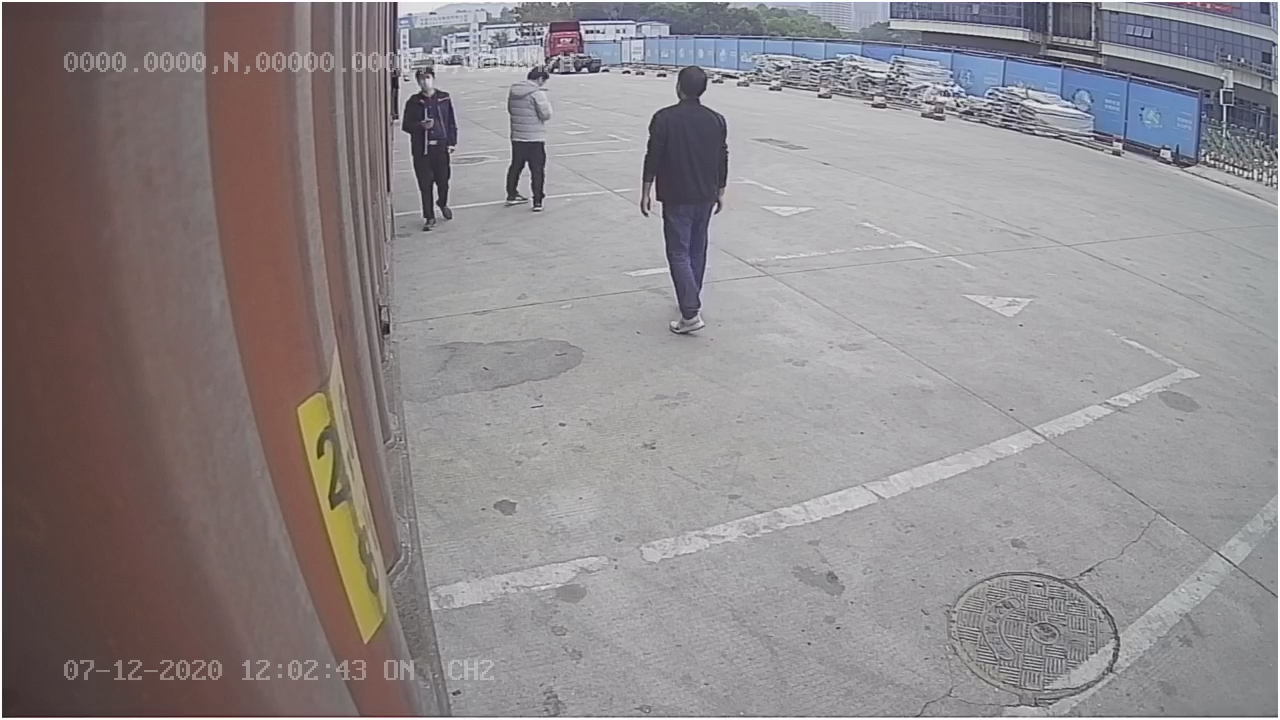person: (640, 64, 735, 338)
